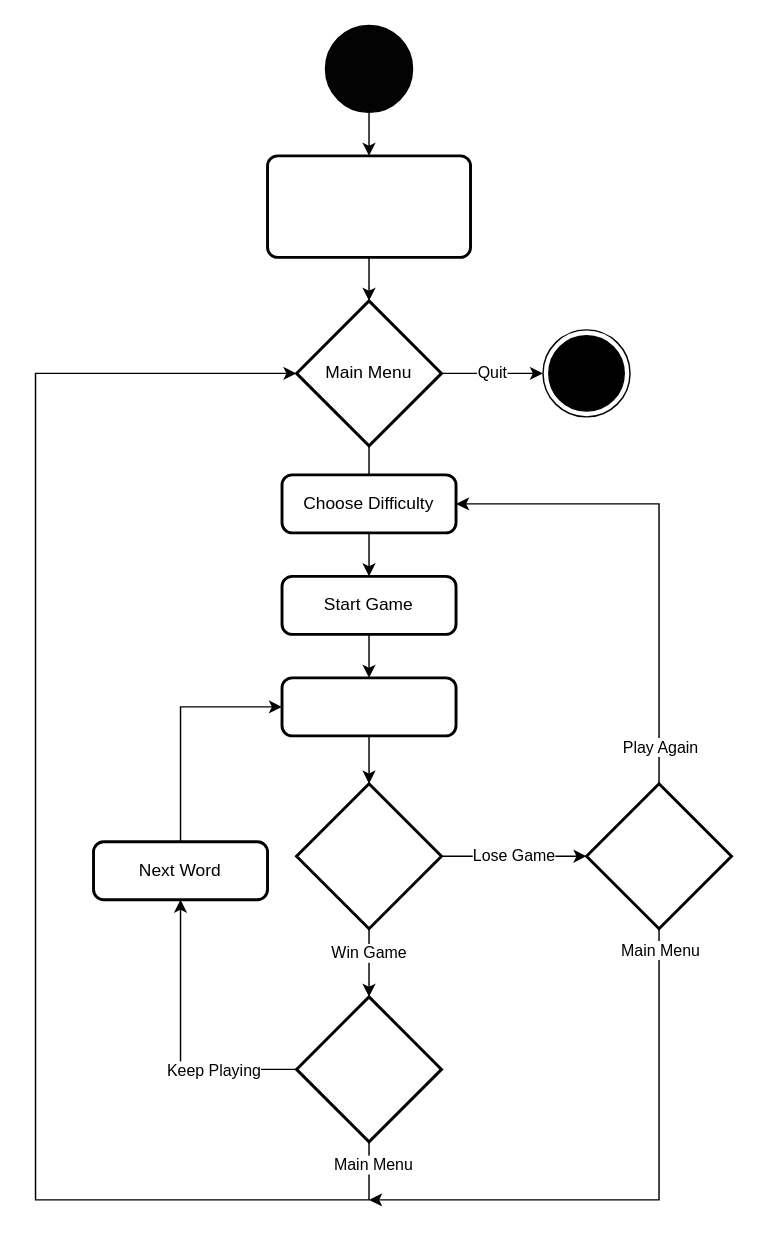
The diagram is 758 pixels wide and 1237 high, and some of its shapes have lost their labels. Each missing label, with the centre of its shape:
Open Application: point 368,206
Play Game: point 368,706
